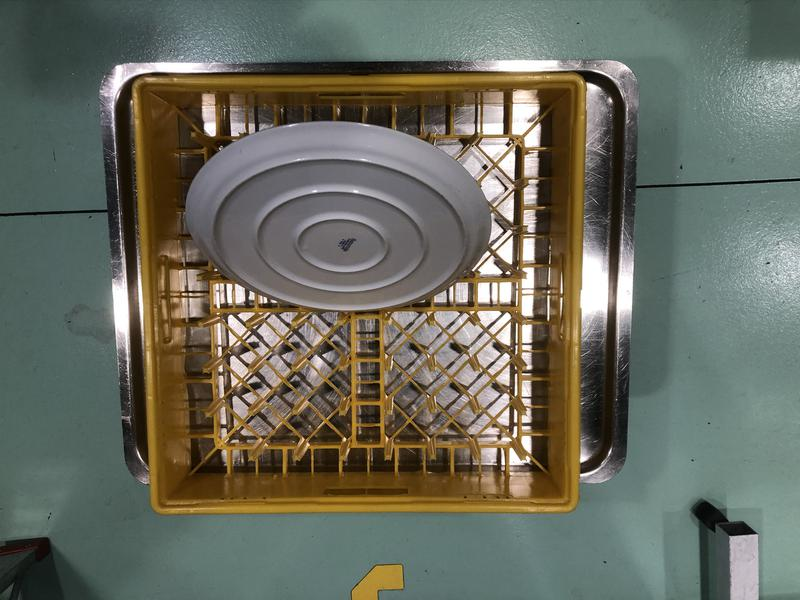Inclined_dish: (183, 121, 491, 311)
